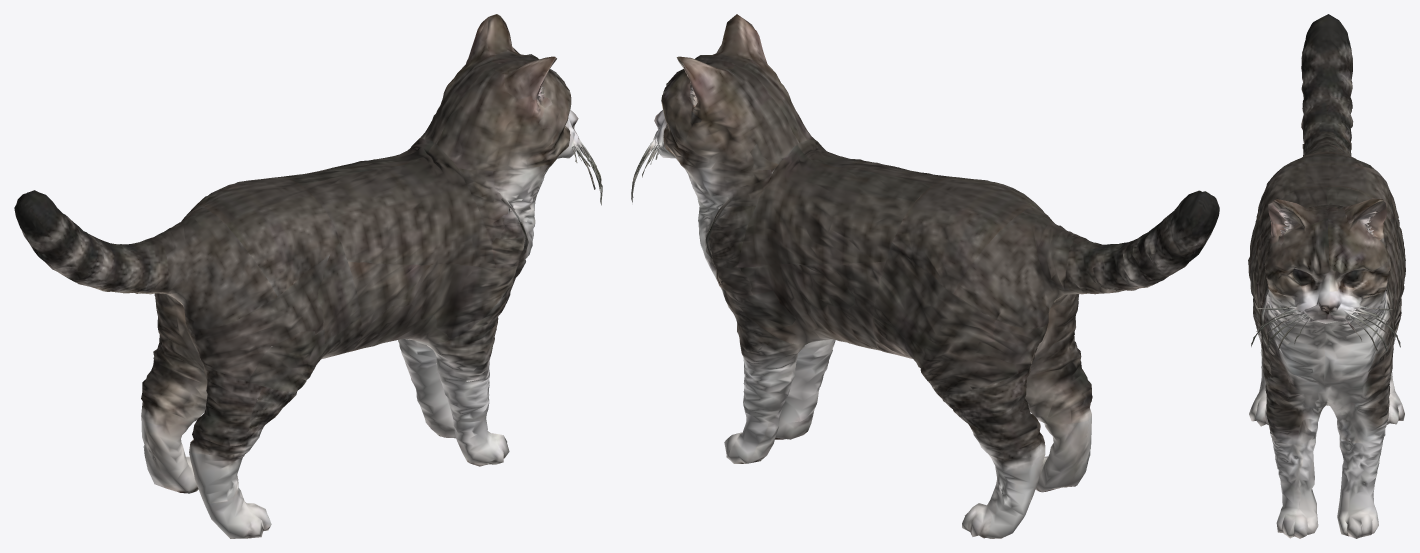
The model's file is KYURUGACAT-lo.glb.
The picture shows the model from 3 angles, left to right: view 1: azimuth 30°, elevation 25°; view 2: azimuth 150°, elevation 25°; view 3: azimuth 270°, elevation 25°; orthographic projection. The views are drawn at different scales.
Visible parts, largest first — view 1: tripo_node_63516225-c2f1-456e-adfd-27d0956dcbb8; view 2: tripo_node_63516225-c2f1-456e-adfd-27d0956dcbb8; view 3: tripo_node_63516225-c2f1-456e-adfd-27d0956dcbb8.
Part boxes in pixels (<box>): tripo_node_63516225-c2f1-456e-adfd-27d0956dcbb8: <box>14,14,602,538</box>; tripo_node_63516225-c2f1-456e-adfd-27d0956dcbb8: <box>631,14,1219,538</box>; tripo_node_63516225-c2f1-456e-adfd-27d0956dcbb8: <box>1248,14,1405,538</box>.
Size of the model in its own units: 1.47 by 0.9987 by 0.3999.
Materials: 1 (1 with a texture image).
